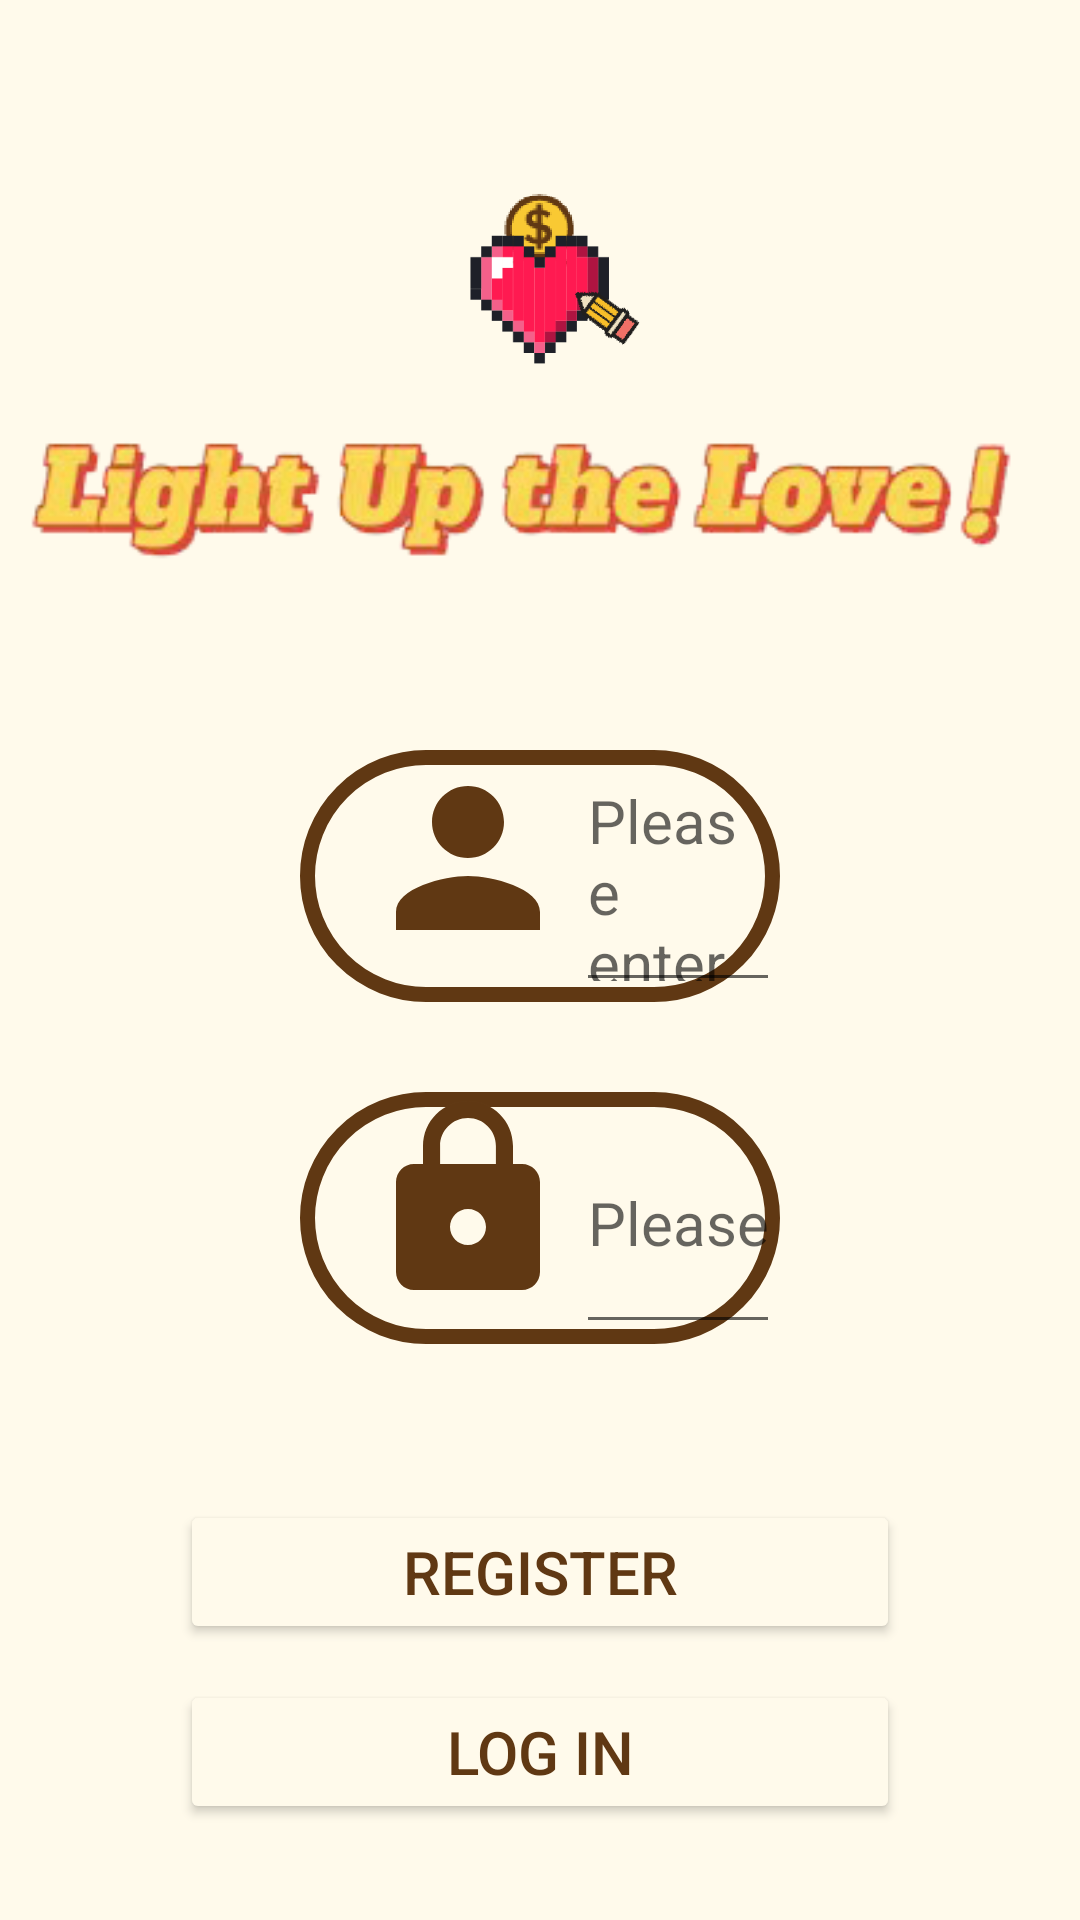

Screen size 1080 × 1920. Icon name, then its center in pixels as (x=x, y=y):
lock: (x=468, y=1200)
person: (x=468, y=858)
